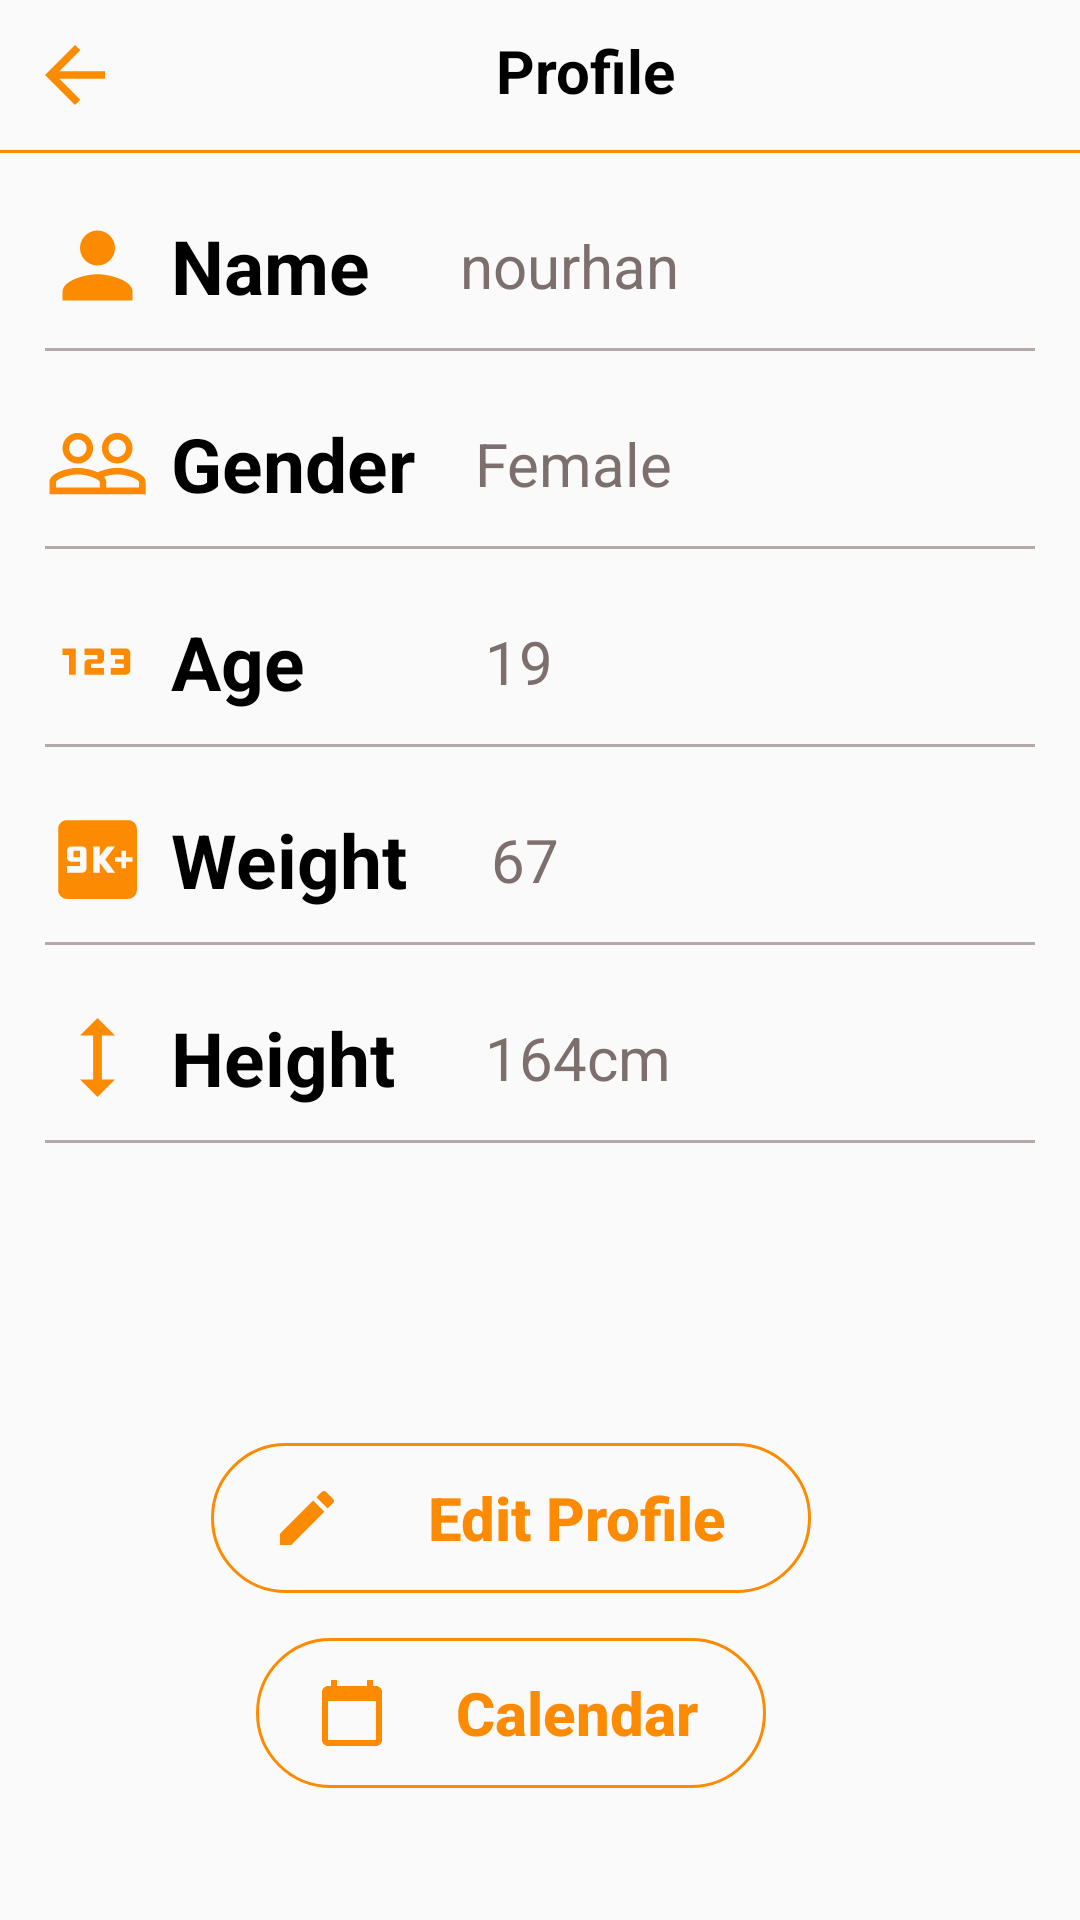

Point at icon controls on the screen. Image size 1080px×1920px, points as (x,y).
back: (75,75)
person: (97,265)
